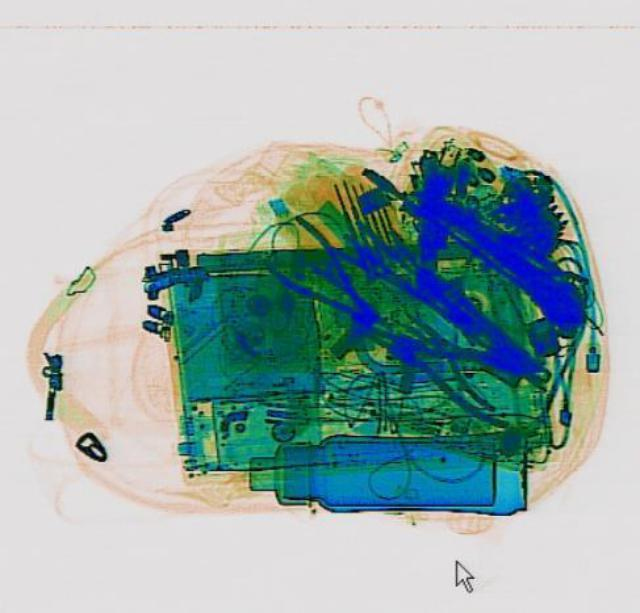Pliers: (347, 299, 547, 434), (248, 210, 396, 339)
